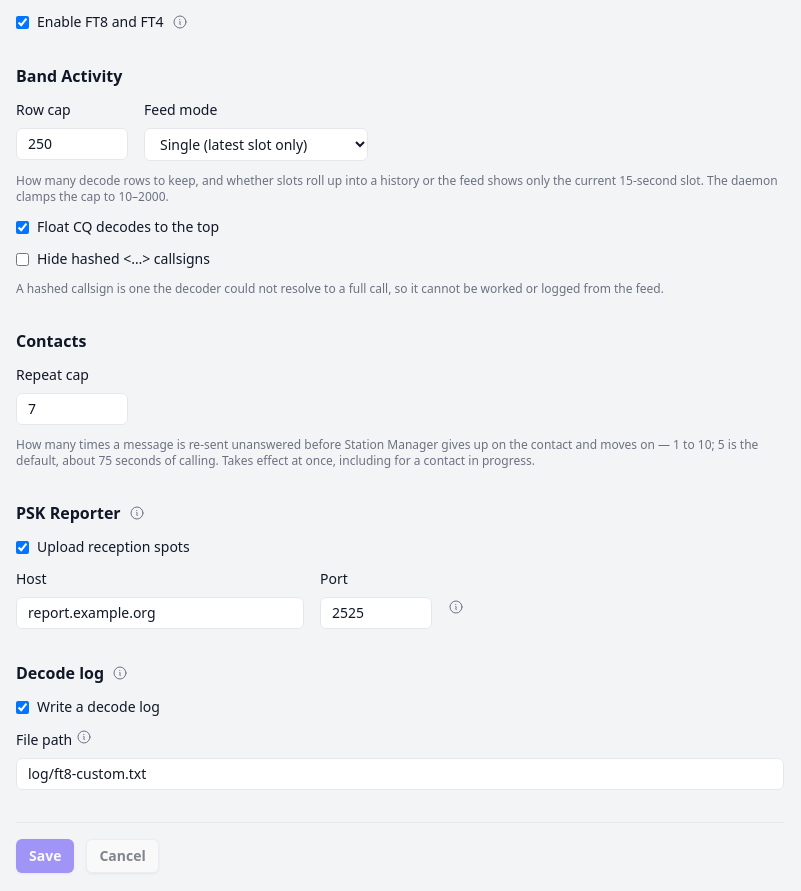
Ft8Section › U5: Save and Cancel are inert until something is edited
Expected: the button "Save" is disabled, 16,839 -> 74,873
Click the checkbox labelled "Float CQ decodes to the top": (22,227) 16,220 -> 29,234
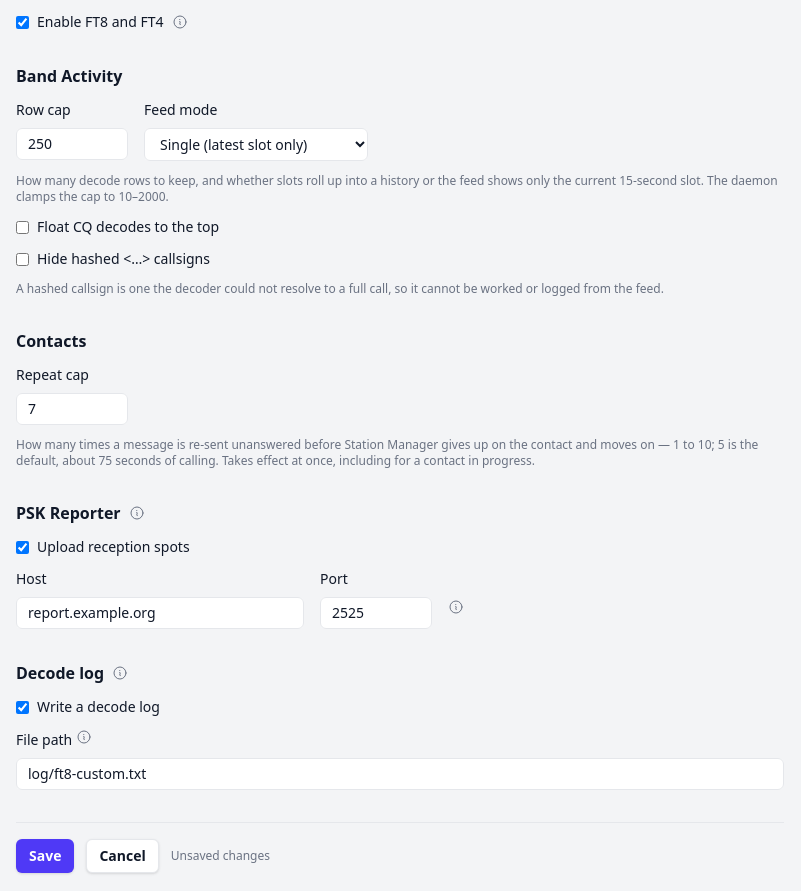
Expected: the button "Save" is enabled, 16,839 -> 74,873
